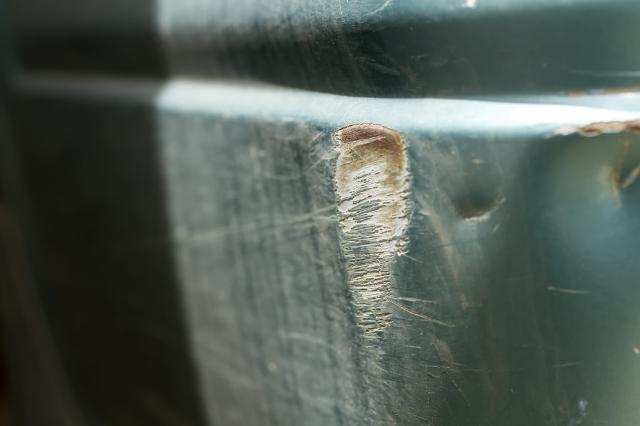dent: (336, 125, 411, 338), (451, 192, 500, 235)
